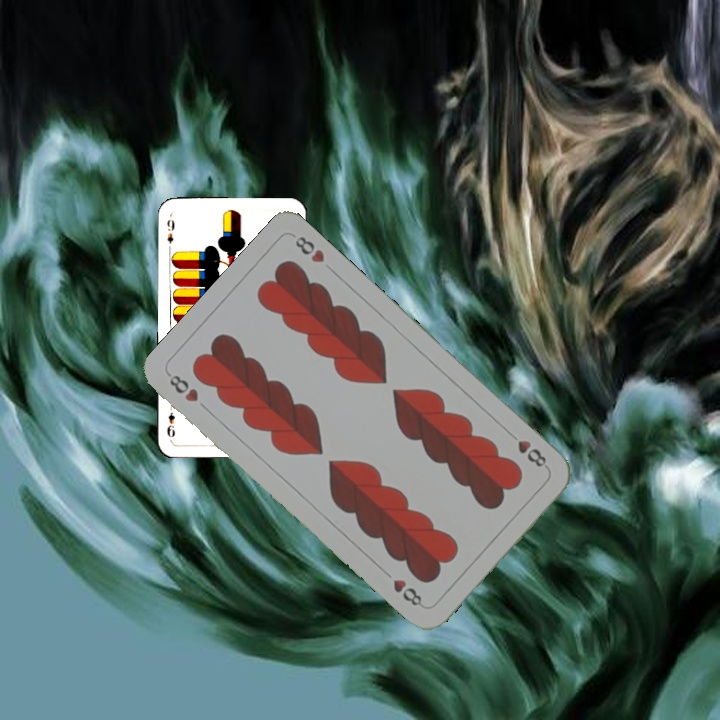E9: (163, 216, 177, 246)
H8: (164, 369, 201, 405), (513, 436, 549, 470)
